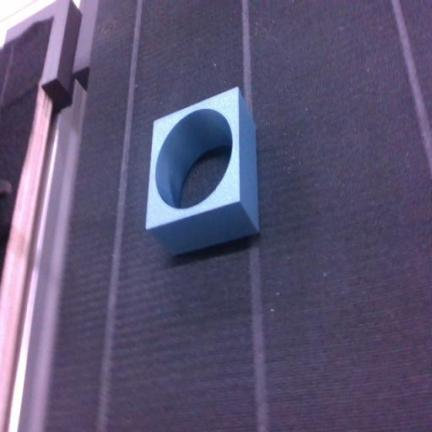square: (146, 88, 259, 254)
